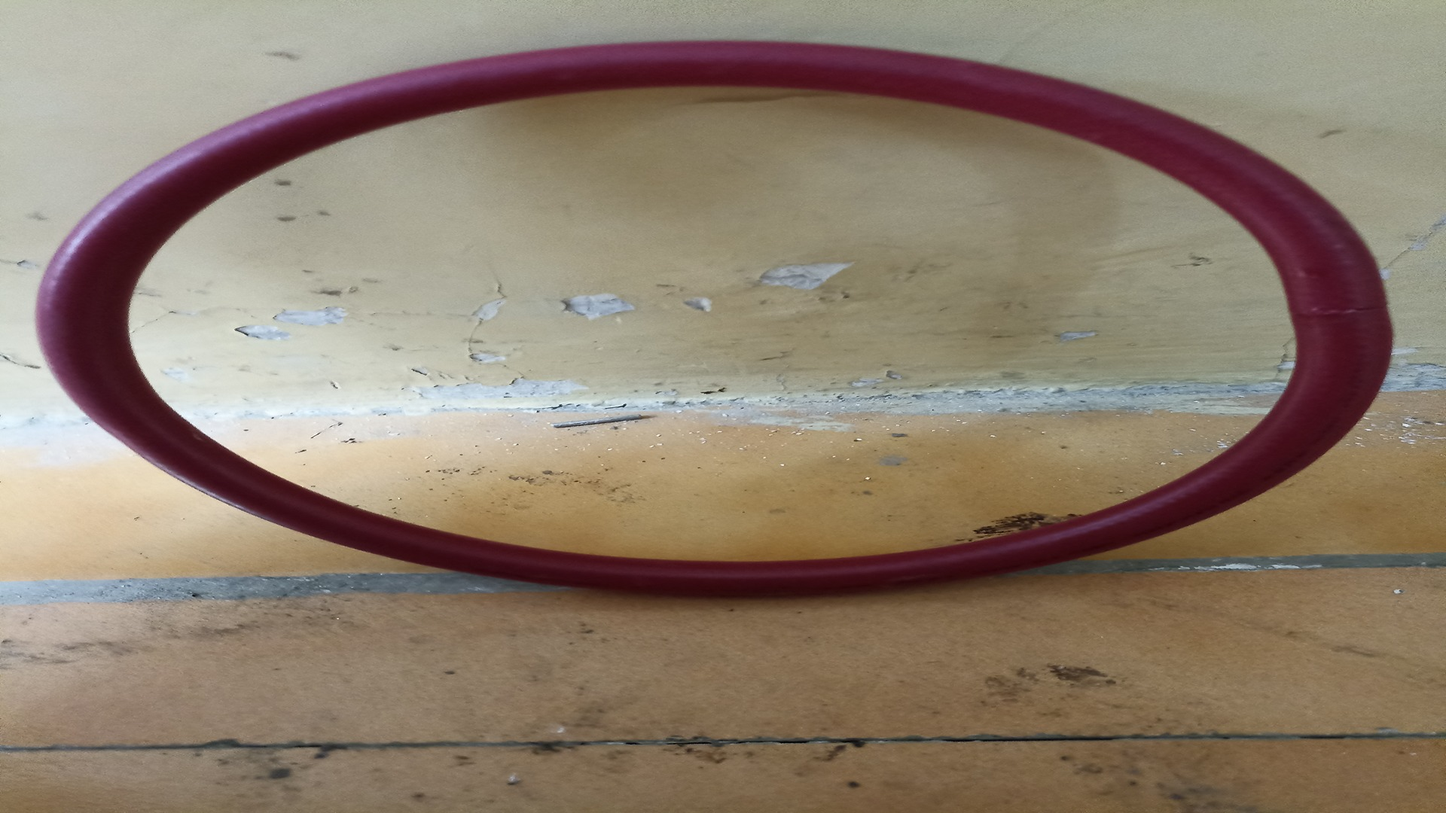Red ring: (36, 44, 1391, 596)
